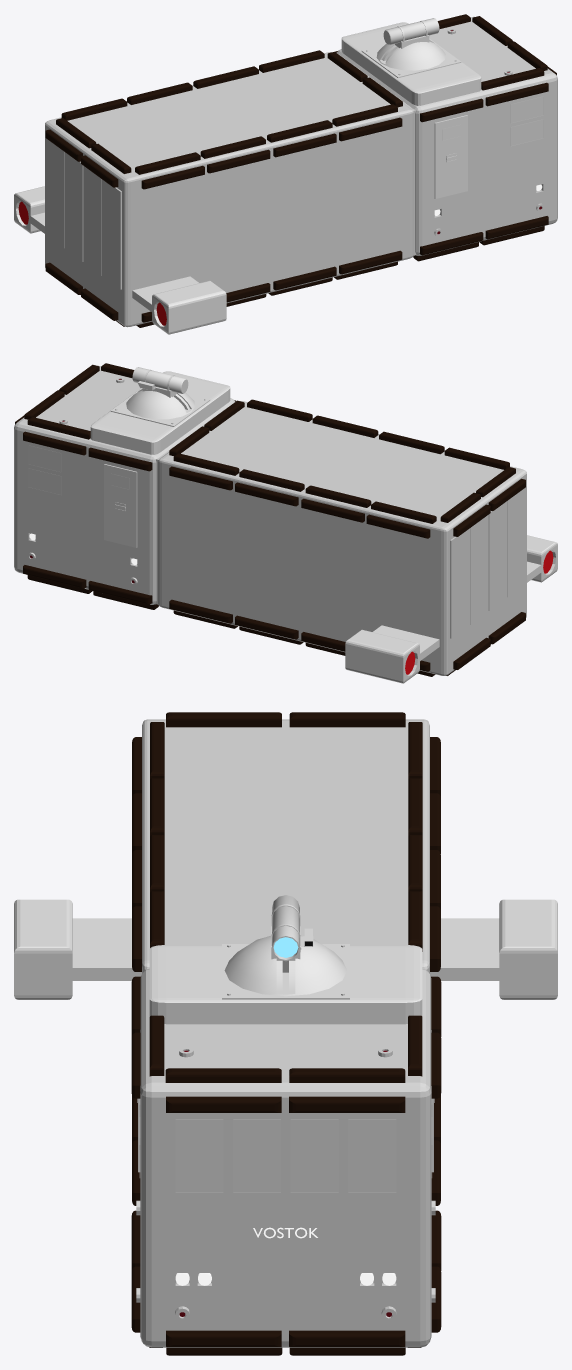
File: Vostok.glb
3 views of the same model, one above another, from view 1: azimuth 30°, elevation 25°; view 2: azimuth 150°, elevation 25°; view 3: azimuth 270°, elevation 25° (orthographic). The views are drawn at different scales.
Parts seen in each view (by area): view 1: Vostok; view 2: Vostok; view 3: Vostok.
Part boxes in pixels (x1,y1,x2,y2): Vostok: (14, 14, 557, 334); Vostok: (14, 363, 557, 683); Vostok: (14, 712, 557, 1355).
Bounding box in the file's own units: 12.25 × 5.3 × 7.38.
